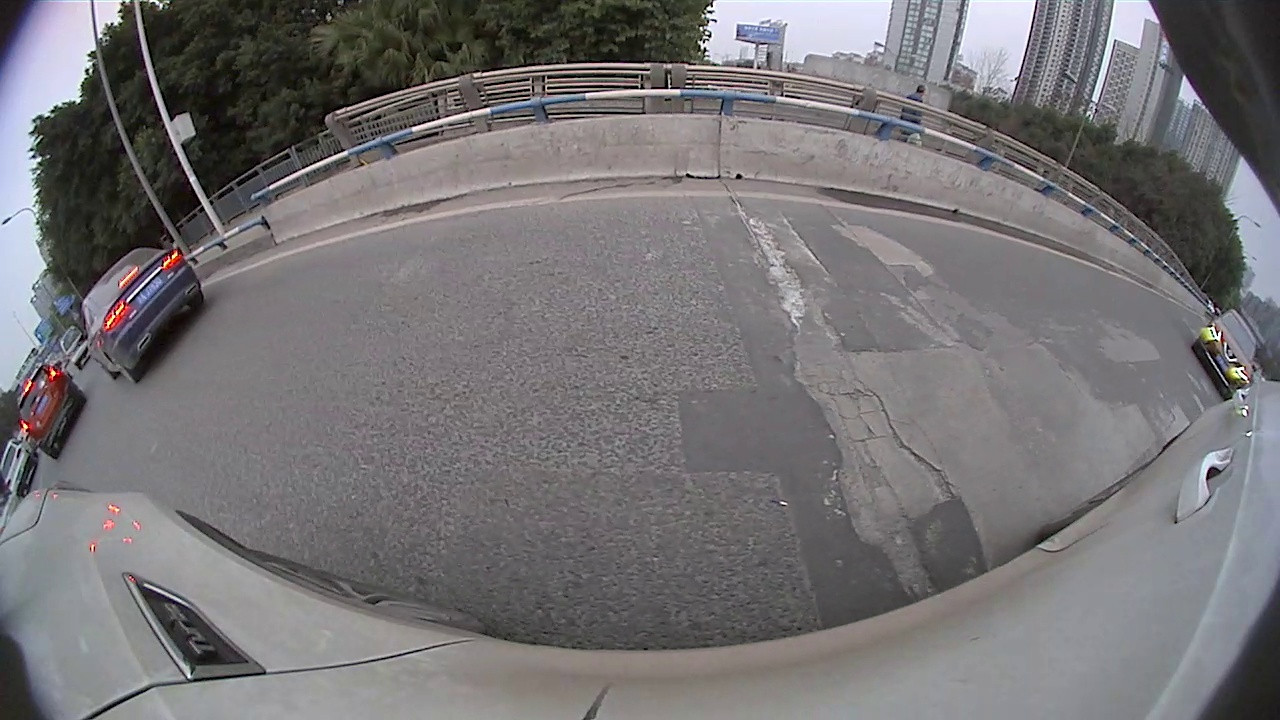car: (80, 245, 207, 389), (15, 363, 88, 463), (1192, 309, 1261, 394), (1, 439, 41, 502), (55, 325, 85, 360)
person: (903, 83, 927, 150)
rear: (104, 346, 144, 385), (184, 287, 207, 312)
